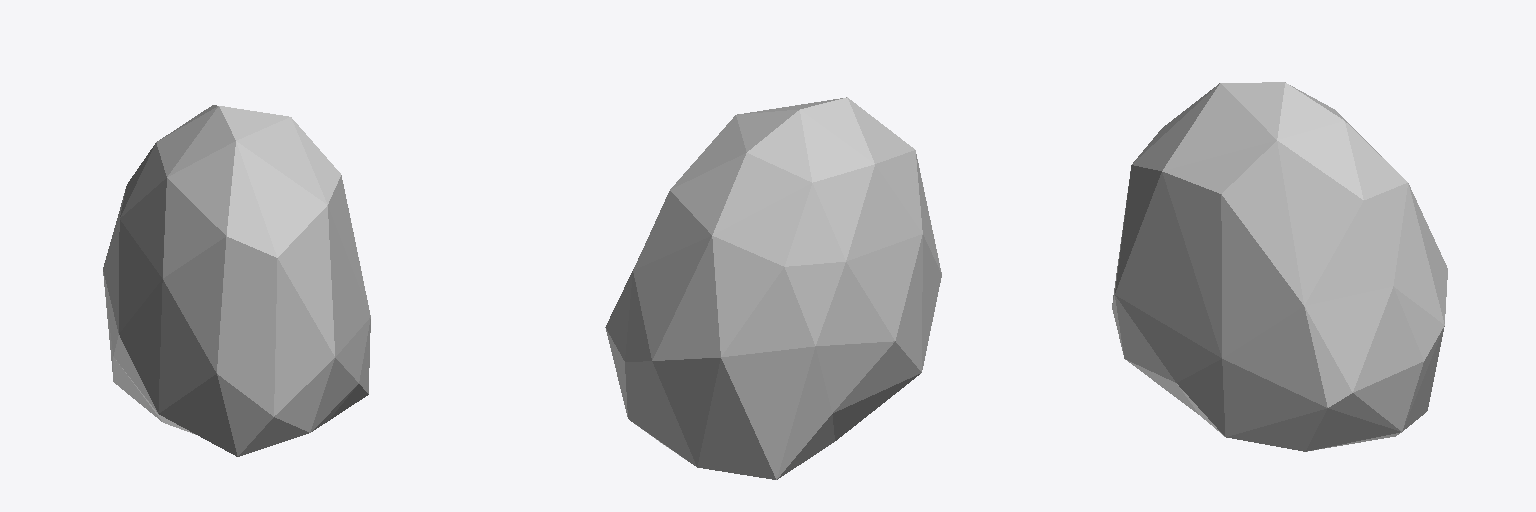
Rendered from kamien_5.obj.
3 renders of one model, left to right at view 1: azimuth 30°, elevation 25°; view 2: azimuth 150°, elevation 25°; view 3: azimuth 270°, elevation 25°, orthographic.
Visible parts, largest first — view 1: rock; view 2: rock; view 3: rock.
Part boxes in pixels (x1,y1,x2,y2): rock: (103, 105, 370, 456); rock: (605, 97, 941, 479); rock: (1112, 82, 1447, 451).
Bounding box in the file's own units: 0.4881 × 0.5531 × 0.5373.